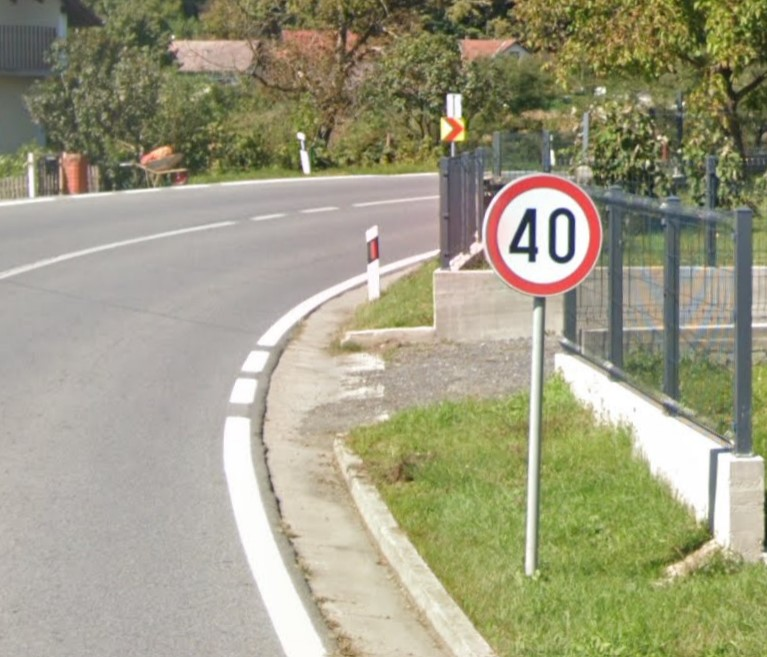Ograničenje brzine 40: (484, 173, 603, 297)
